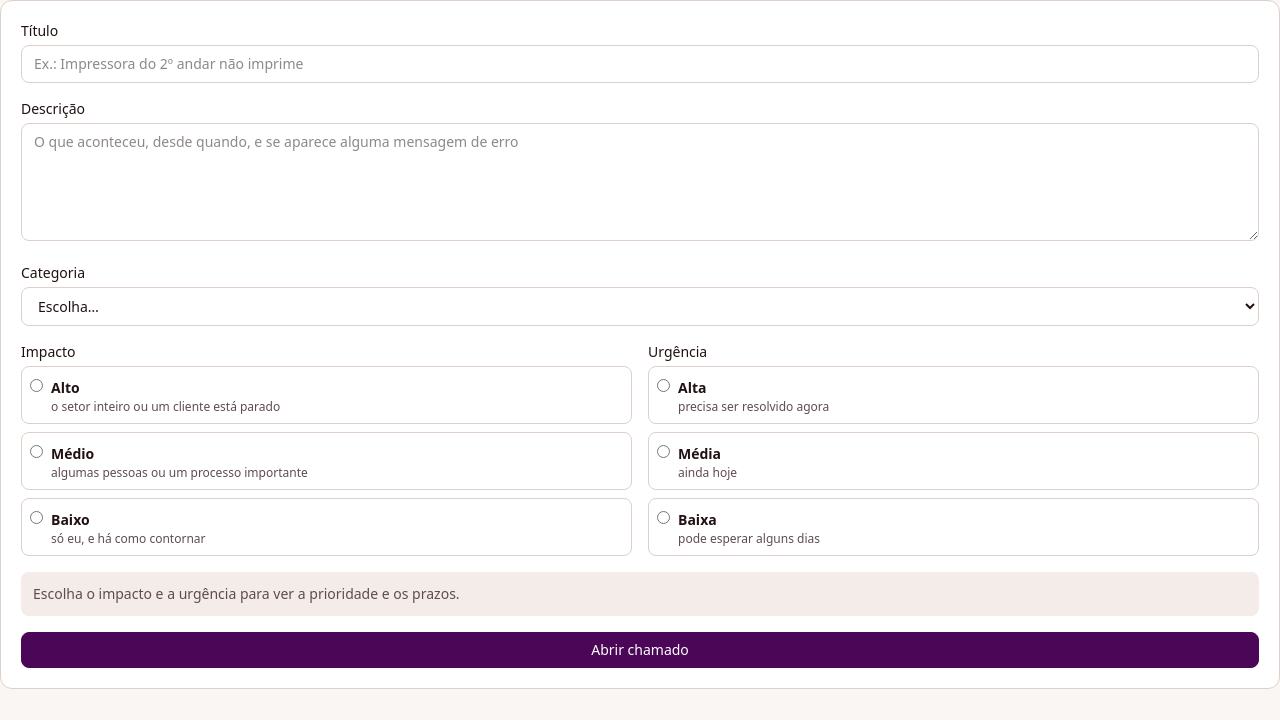
Test: NewTicketForm › prévia da prioridade muda com impacto e urgência
Expected: the element with test id "previa-prioridade" shows "Escolha o impacto e a urgência", [33,584,460,603]
Click the radio button labelled "Alto o setor inteiro ou um cliente está parado". click: (36, 386)
box: [30,379,43,392]
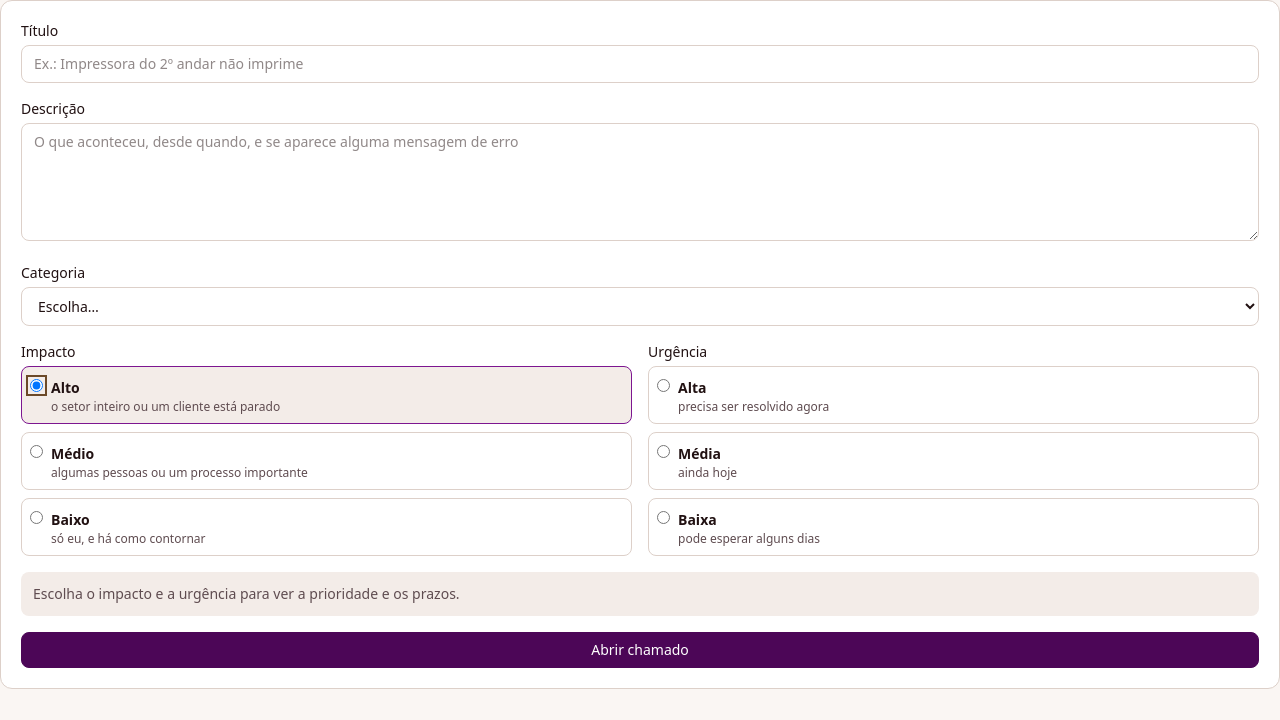
Click the radio button labelled "Alta precisa ser resolvido agora". click: (664, 386)
box: [657,379,670,392]
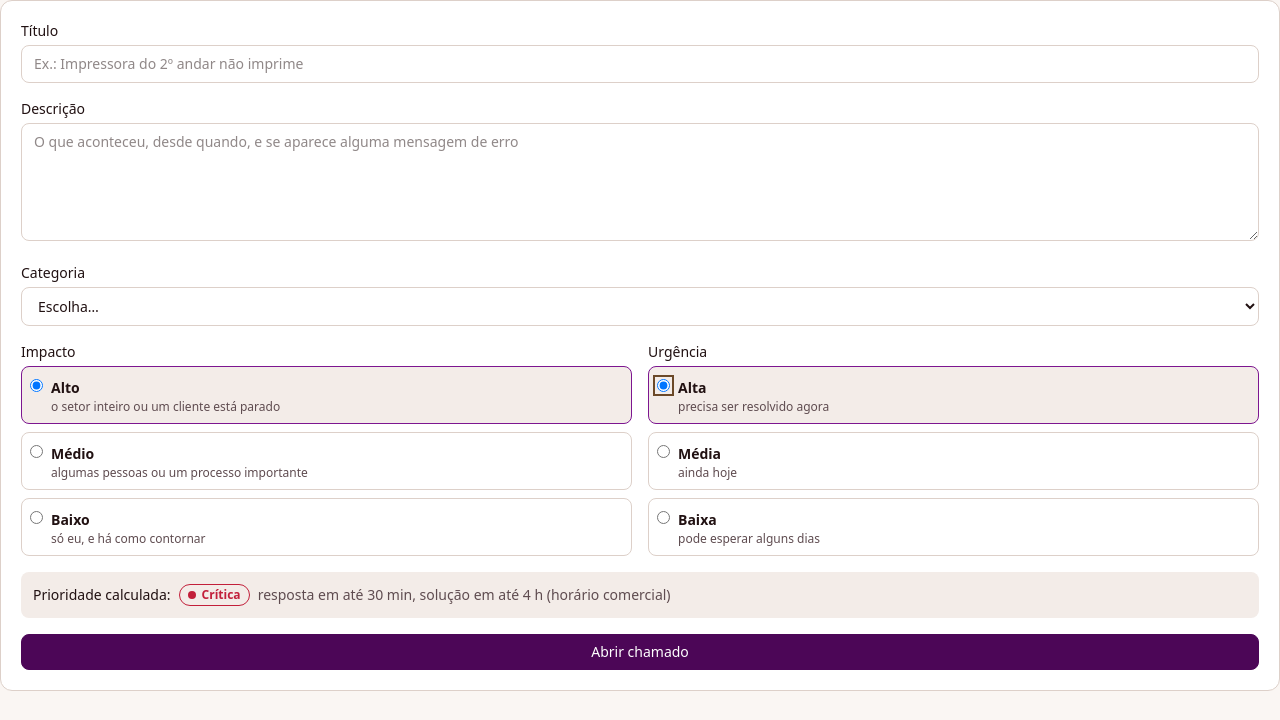
Result: the element with test id "previa-prioridade" shows "Crítica" at [202,586,241,603]
Result: the element with test id "previa-prioridade" shows "resposta em até 30 min, solução em até 4 h" at [21,572,1259,618]
Click the radio button labelled "Baixa pode esperar alguns dias". click: (664, 518)
box: [657,511,670,524]
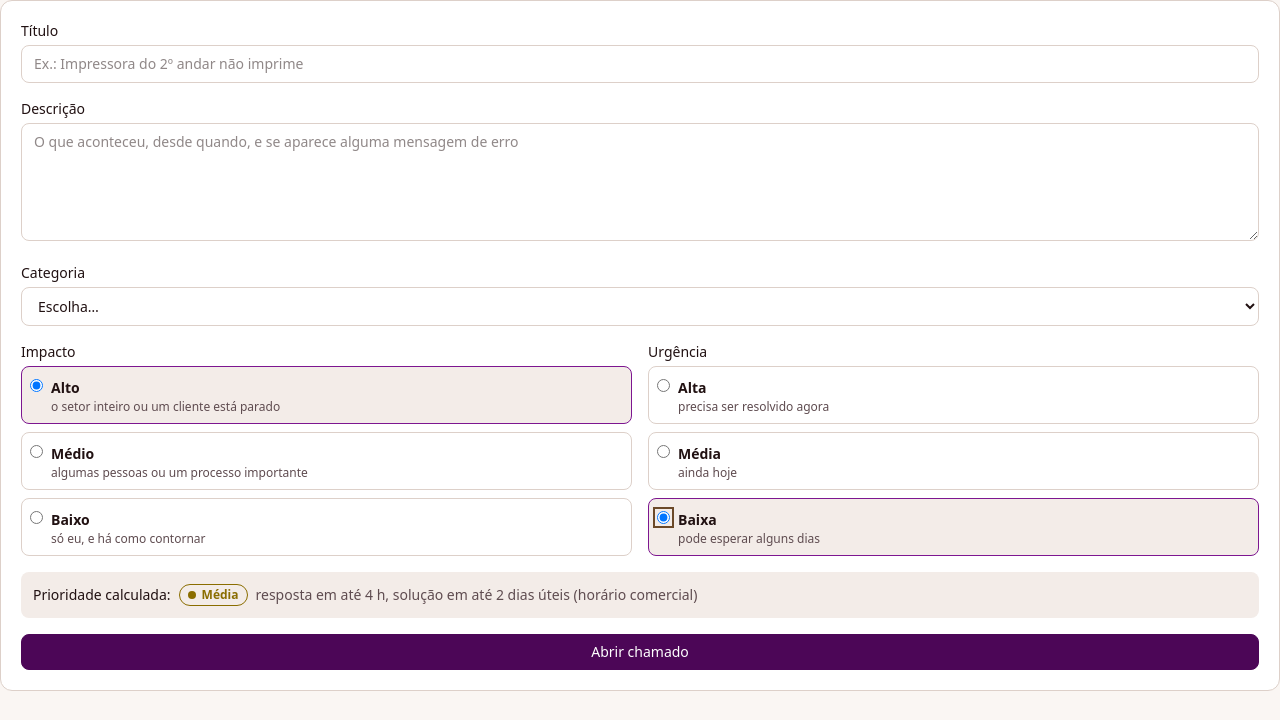
Result: the element with test id "previa-prioridade" shows "Média" at [202,586,238,603]
